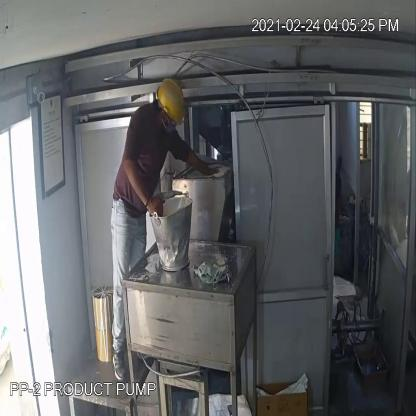helmet: (152, 69, 188, 132)
